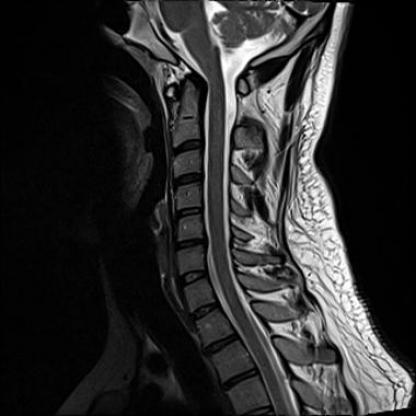Disc Bulgerotation: (173, 231, 209, 255)
